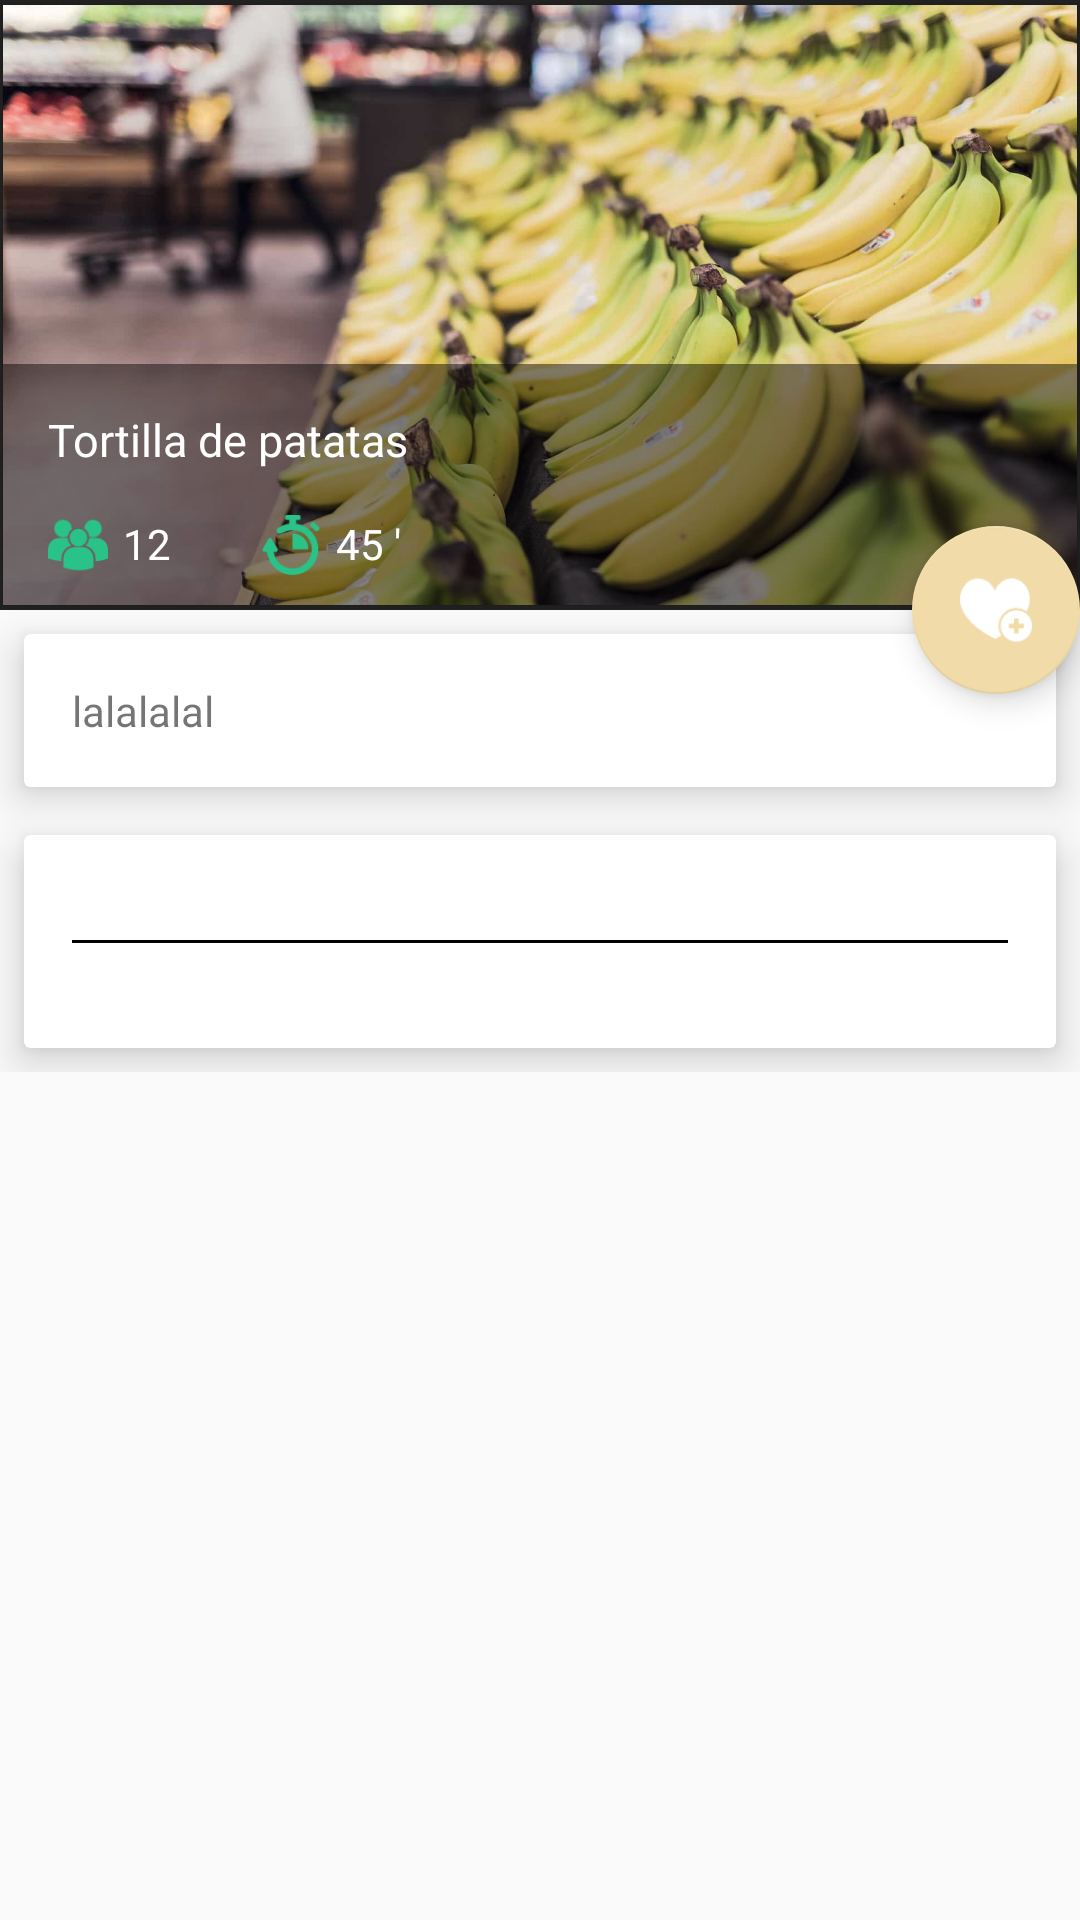

Named icons in this screenshot (1080px×1920px) and their centers, (x=x, y=y):
add favourite: (x=996, y=610)
people cook: (x=78, y=545)
time cook: (x=291, y=545)
